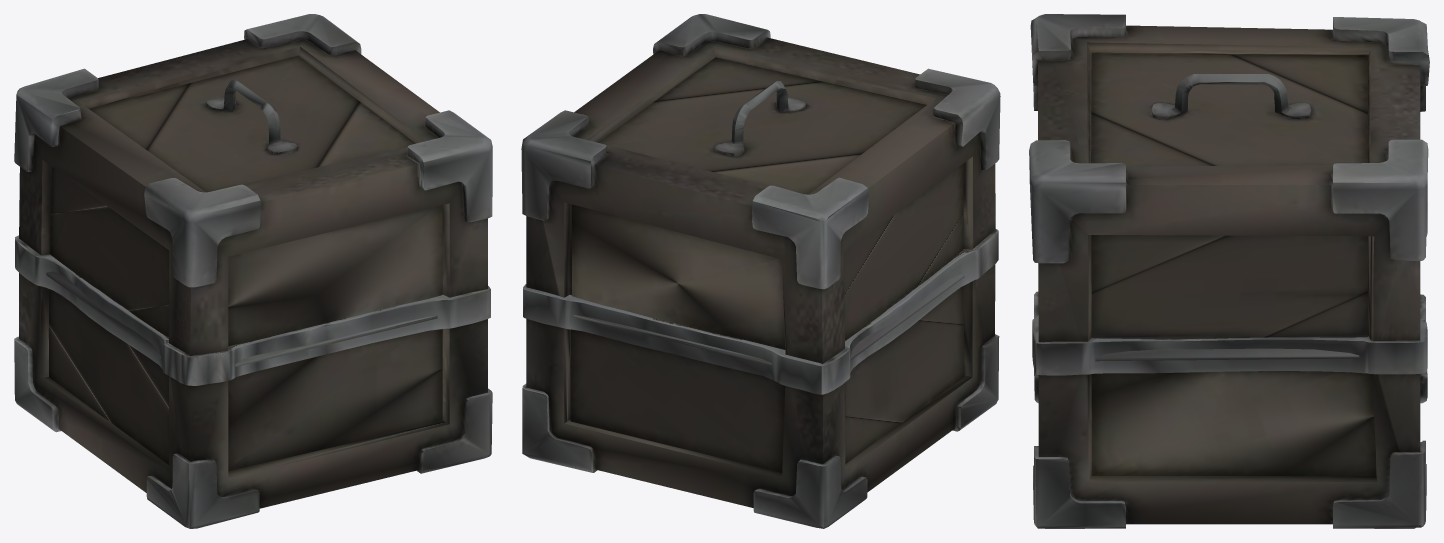
Rendered from crate.glb.
The picture shows the model from 3 angles, left to right: view 1: azimuth 30°, elevation 25°; view 2: azimuth 150°, elevation 25°; view 3: azimuth 270°, elevation 25°; orthographic projection. The views are drawn at different scales.
Parts seen in each view (by area): view 1: model; view 2: model; view 3: model.
Part boxes in pixels (box(x1,y1,x2,y2)): model: box(14, 14, 492, 528); model: box(521, 14, 1000, 528); model: box(1029, 14, 1429, 528).
Bounding box in the file's own units: 0.9648 × 1 × 0.9726.
Materials: 1 (1 with a texture image).
